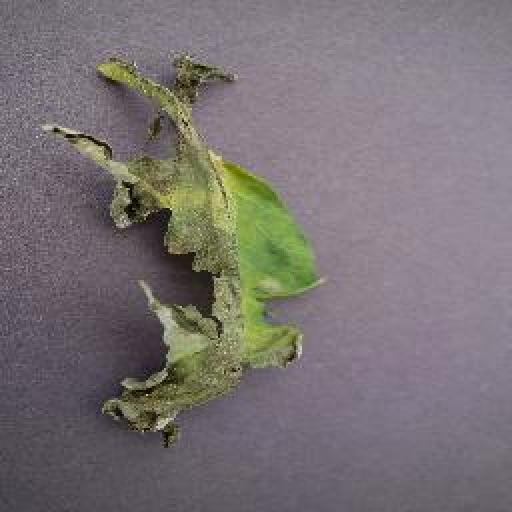disease_tomato: (46, 56, 324, 450)
